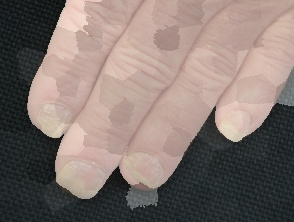Nail_psoriasis: (49, 150, 110, 203), (29, 91, 82, 143), (120, 146, 169, 191), (217, 109, 253, 145)
